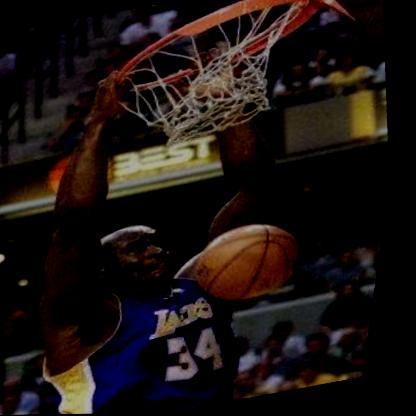basketball: (191, 215, 318, 309)
rim: (101, 0, 342, 151)
